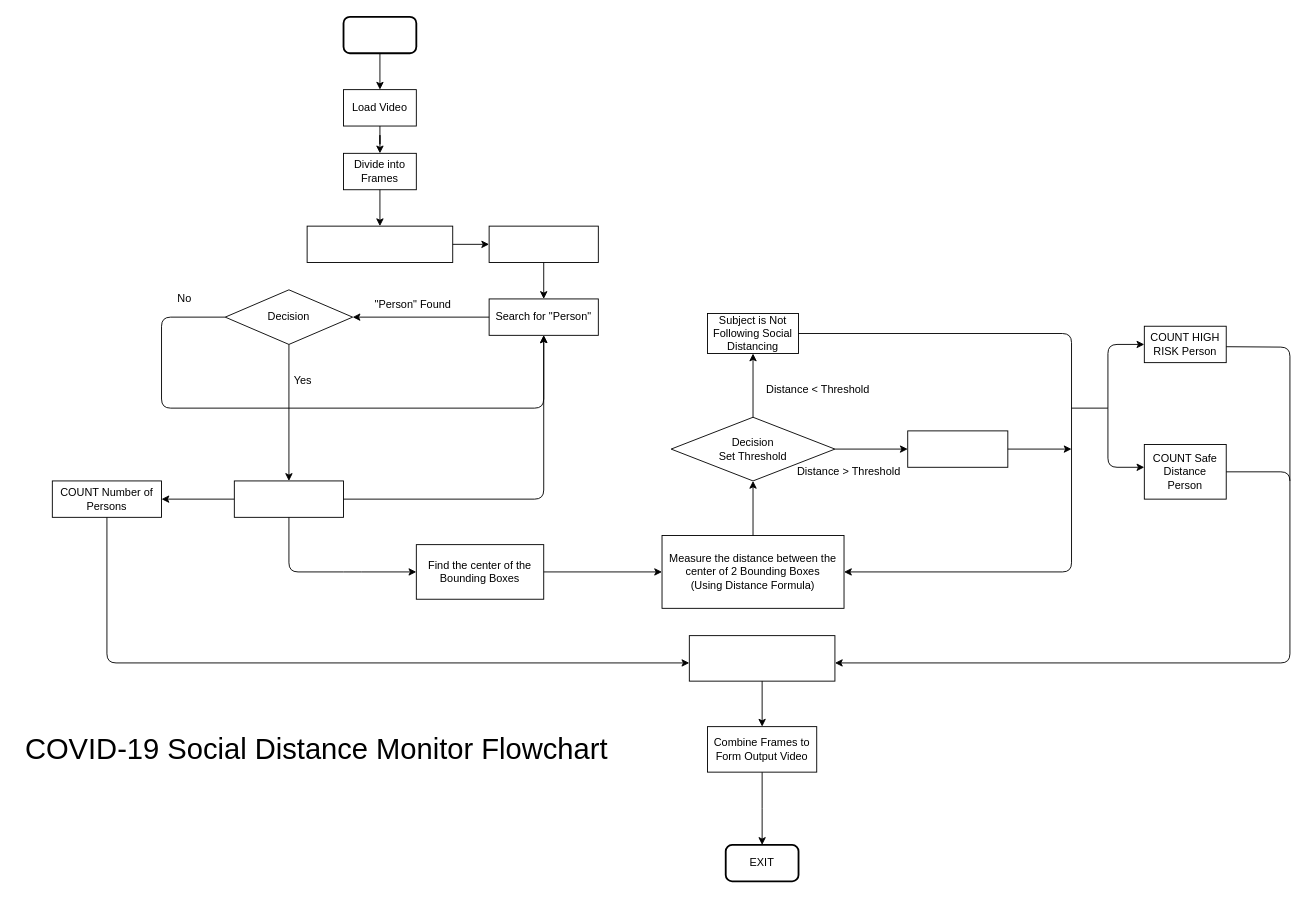
This 1313x897 diagram has some shape labels left out. Here are the shapes that lost their labels. From the top down, the box of each, then its label:
(342, 15, 417, 54): START
(306, 225, 453, 263): Load YOLO Weights, Config and Label Names
(488, 225, 598, 263): Start Video Analysis
(907, 430, 1008, 467): Subject is Following Social Distancing
(233, 480, 344, 517): Create Bounding Box
(688, 635, 835, 681): Display on Video Frames
